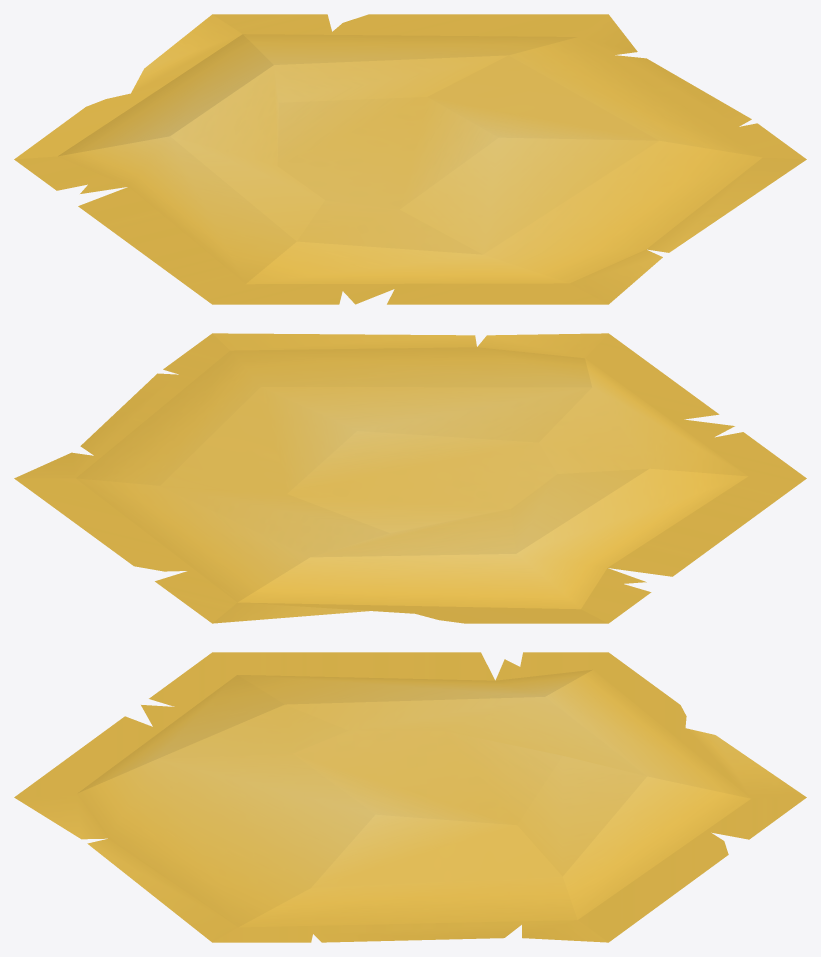
File: sand-plain.glb
3 views of the same model, one above another, from view 1: azimuth 30°, elevation 25°; view 2: azimuth 150°, elevation 25°; view 3: azimuth 270°, elevation 25° (orthographic).
Visible parts, largest first — view 1: plain; view 2: plain; view 3: plain.
Boxes of the visible parts, <box> form: plain: <box>14,14,806,304</box>; plain: <box>14,333,806,623</box>; plain: <box>14,652,806,942</box>.
Bounding box in the file's own units: 1.73 × 0.0551 × 2.
Materials: 1 (1 with a texture image).
